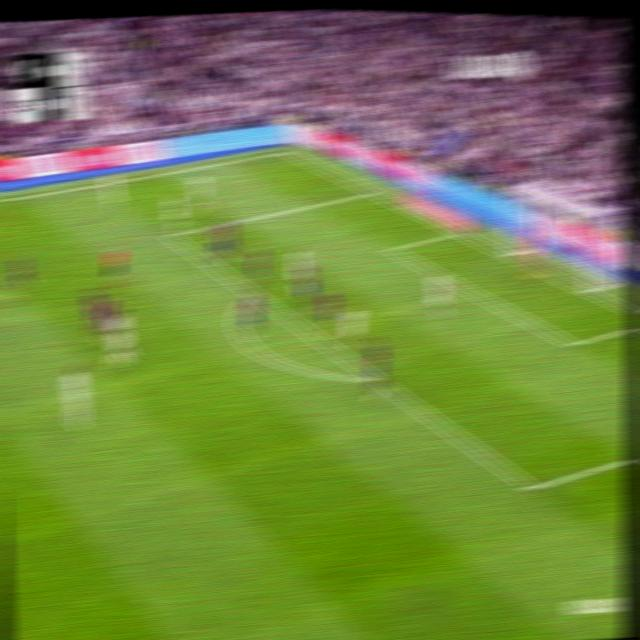bigarea_bottom_inner: (520, 471, 544, 504)
bigarea_top_inner: (162, 225, 179, 244)
bigarea_top_outter: (364, 184, 380, 198)
corner: (277, 144, 296, 157)
smallarea_bottom_inner: (562, 333, 582, 355)
smallarea_top_inner: (385, 242, 400, 255)
